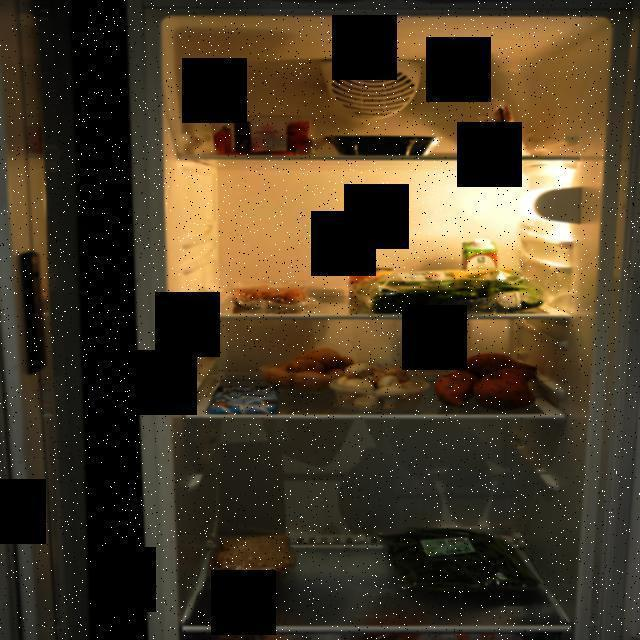bread: (212, 532, 298, 588)
chocolate: (209, 384, 279, 416)
corn: (346, 264, 396, 310)
flour: (468, 98, 532, 157)
green_beans: (374, 526, 540, 590)
heavy_cream: (461, 236, 499, 304)
mushrooms: (326, 362, 424, 411)
potato: (258, 348, 358, 393)
shrimp: (233, 286, 310, 306)
spinach: (353, 267, 546, 313)
strawberries: (206, 114, 324, 154)
sweet_potato: (431, 350, 543, 410)
